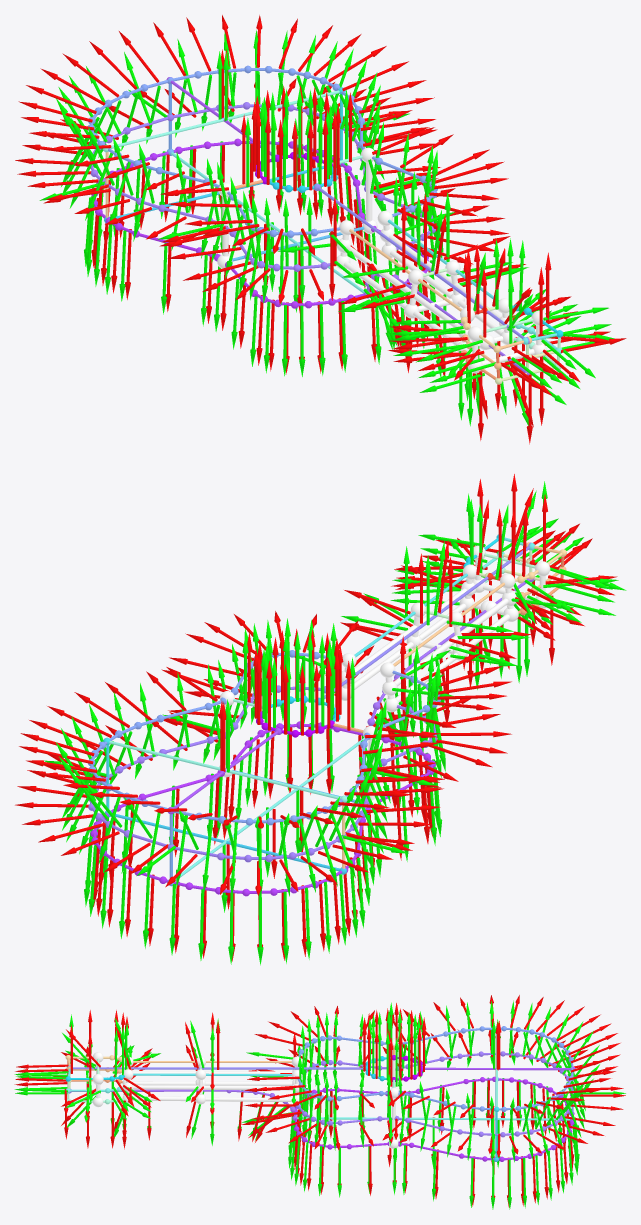
File: t2f_guitar.gltf
3 renders of one model, top to bottom at view 1: azimuth 30°, elevation 25°; view 2: azimuth 150°, elevation 25°; view 3: azimuth 270°, elevation 25°, orthographic. The views are drawn at different scales.
Size of the model in its own units: 0.5512 by 0.3045 by 1.13.
